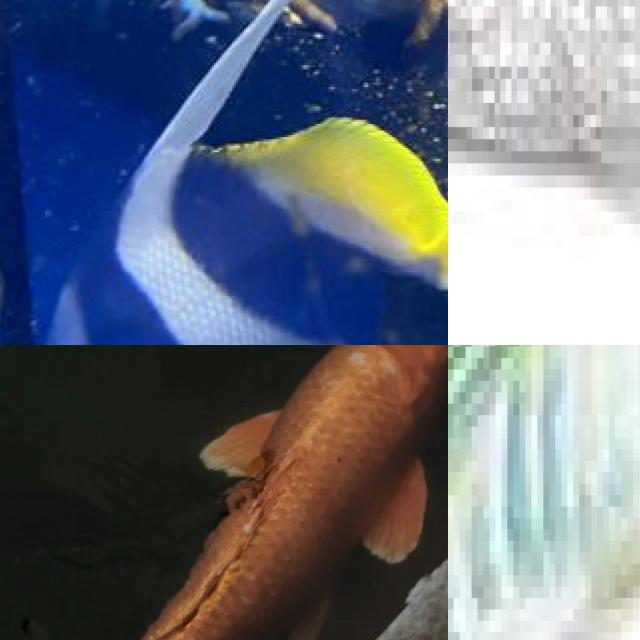fish: (0, 0, 448, 345), (38, 345, 448, 640), (448, 0, 640, 345), (448, 345, 640, 640)
